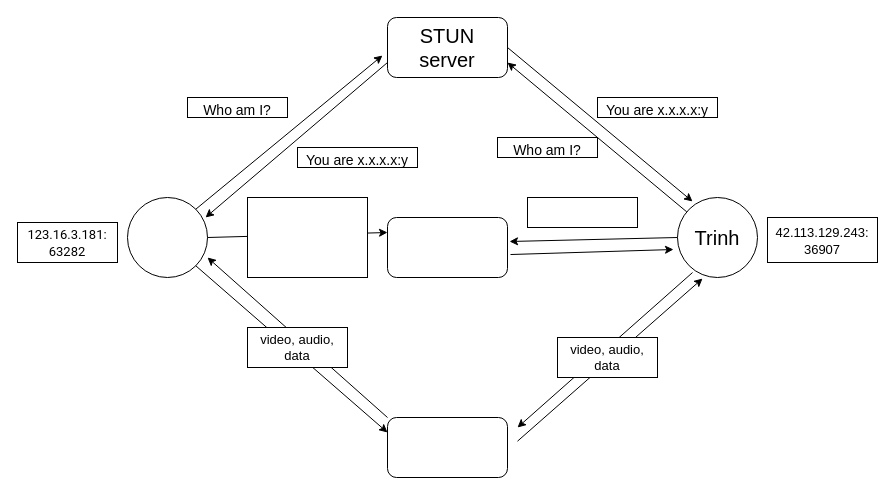
Image size: 895x495. Some labels were removed from this diagram. Each missing label, with the centre of its shape:
"Firebase" goes at point 447,247.
"Hiếu" goes at point 167,237.
"Join CallId: Hieu" goes at point 582,212.
"Offer 123.16.3.181: 63282 CallId: Hieu" goes at point 307,237.
"TURN server" goes at point 447,447.
